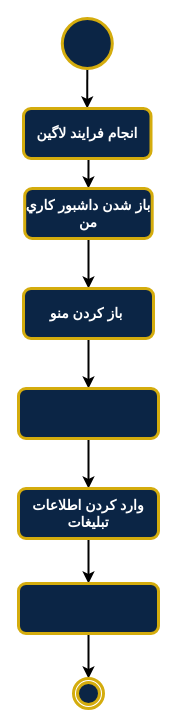
Image size: 177x727. Some labels were removed from this diagram. Each missing label, with the centre of its shape:
انتشار تبلغات در سیستم: [88,608]
ورود به بخش مدیریت تبلیغات: [88,413]
